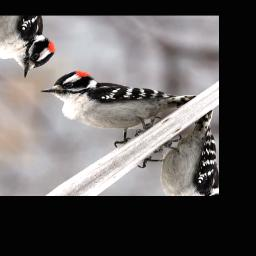Woodpecker: (37, 33, 197, 157)
